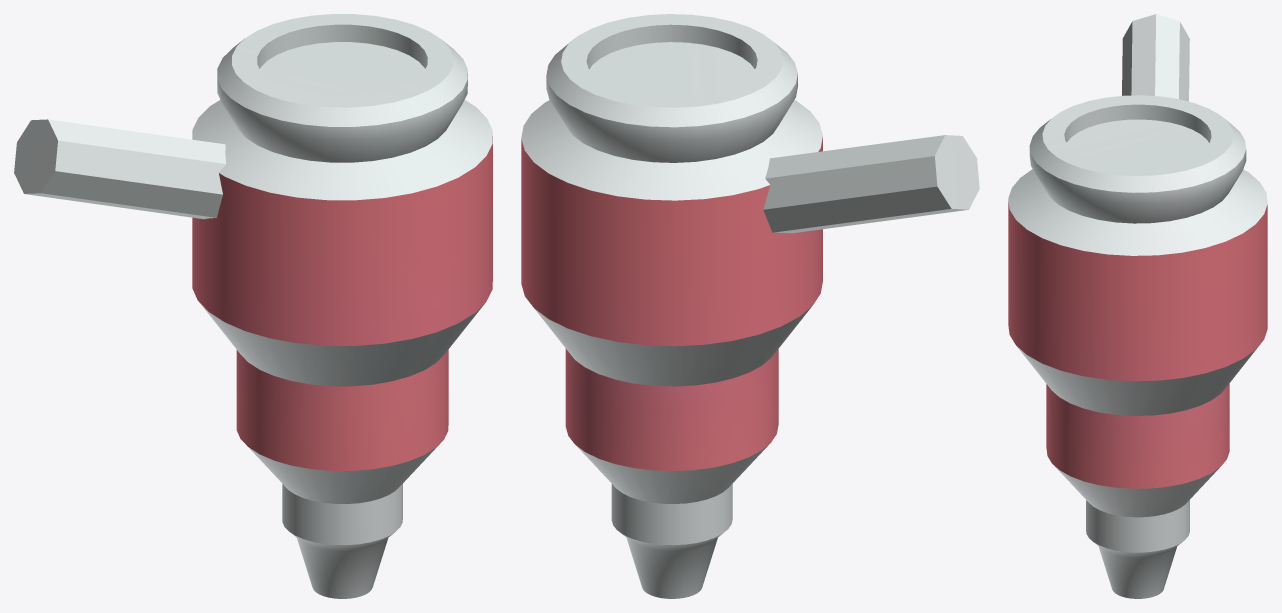
Rendered from kremmachine.fbx.
3 renders of one model, left to right at view 1: azimuth 30°, elevation 25°; view 2: azimuth 150°, elevation 25°; view 3: azimuth 270°, elevation 25°, orthographic. The views are drawn at different scales.
Parts seen in each view (by area): view 1: Cylinder.007; view 2: Cylinder.007; view 3: Cylinder.007.
Boxes of the visible parts, left/top/right/bottom form: Cylinder.007: left=14, top=14, right=492, bottom=598; Cylinder.007: left=521, top=14, right=979, bottom=598; Cylinder.007: left=1008, top=14, right=1267, bottom=598.
Size of the model in its own units: 2191 by 2522 by 1305.
